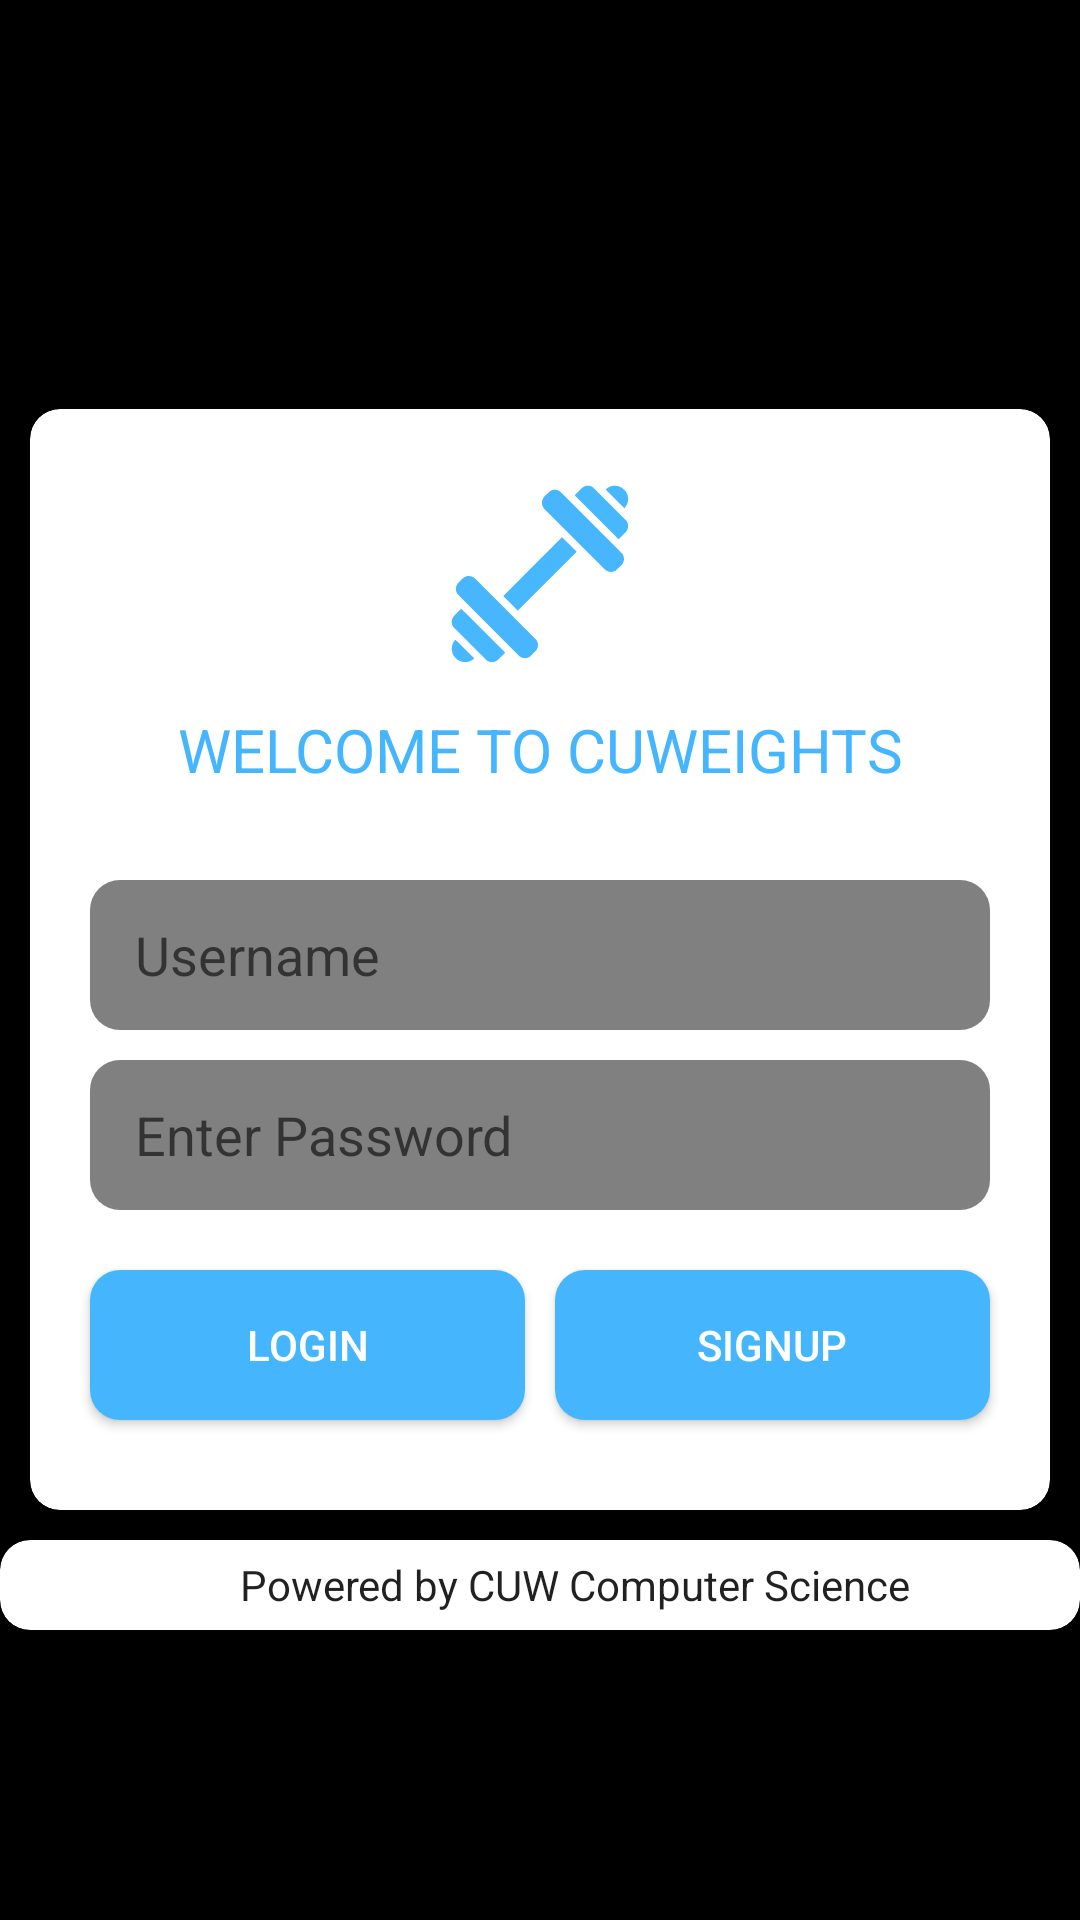

Screen size 1080 × 1920. Icon name, then its box in pixels as (x1, y1, x2, y2):
dumbbell login: (451, 485, 629, 663)
